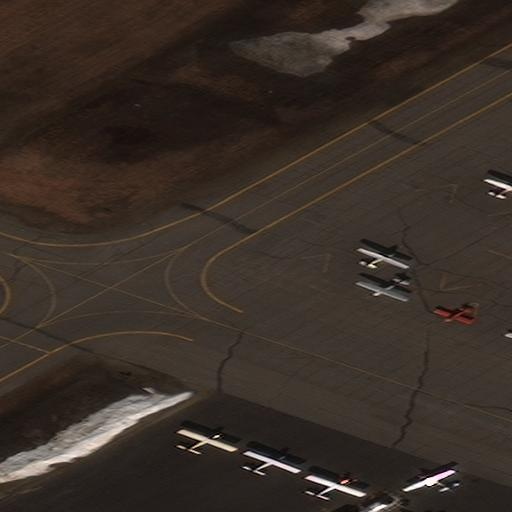Small Civil Transport: (310, 473, 366, 496), (183, 428, 238, 450), (248, 449, 302, 471), (353, 279, 404, 302), (400, 469, 452, 489), (359, 247, 409, 267), (432, 306, 469, 324), (484, 178, 512, 197)
